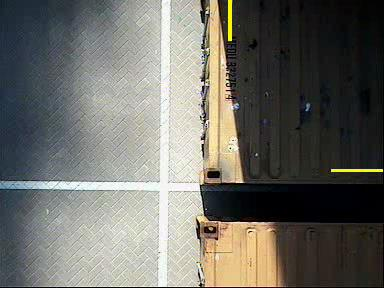groundmarker_2: (121, 184, 176, 225), (121, 14, 176, 54)
